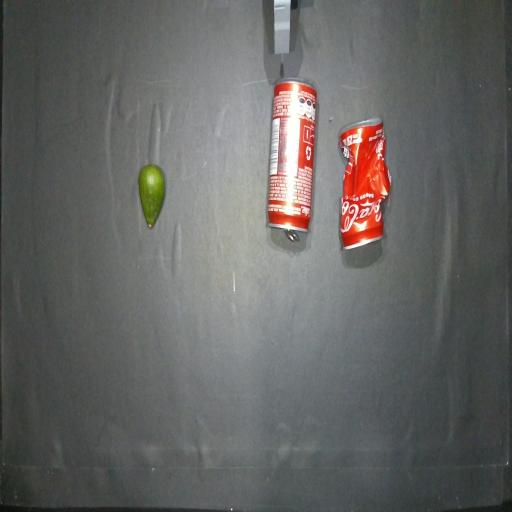higo: (139, 165, 165, 228)
lata: (267, 79, 317, 241)
lata_defectuoso: (340, 118, 390, 249)
